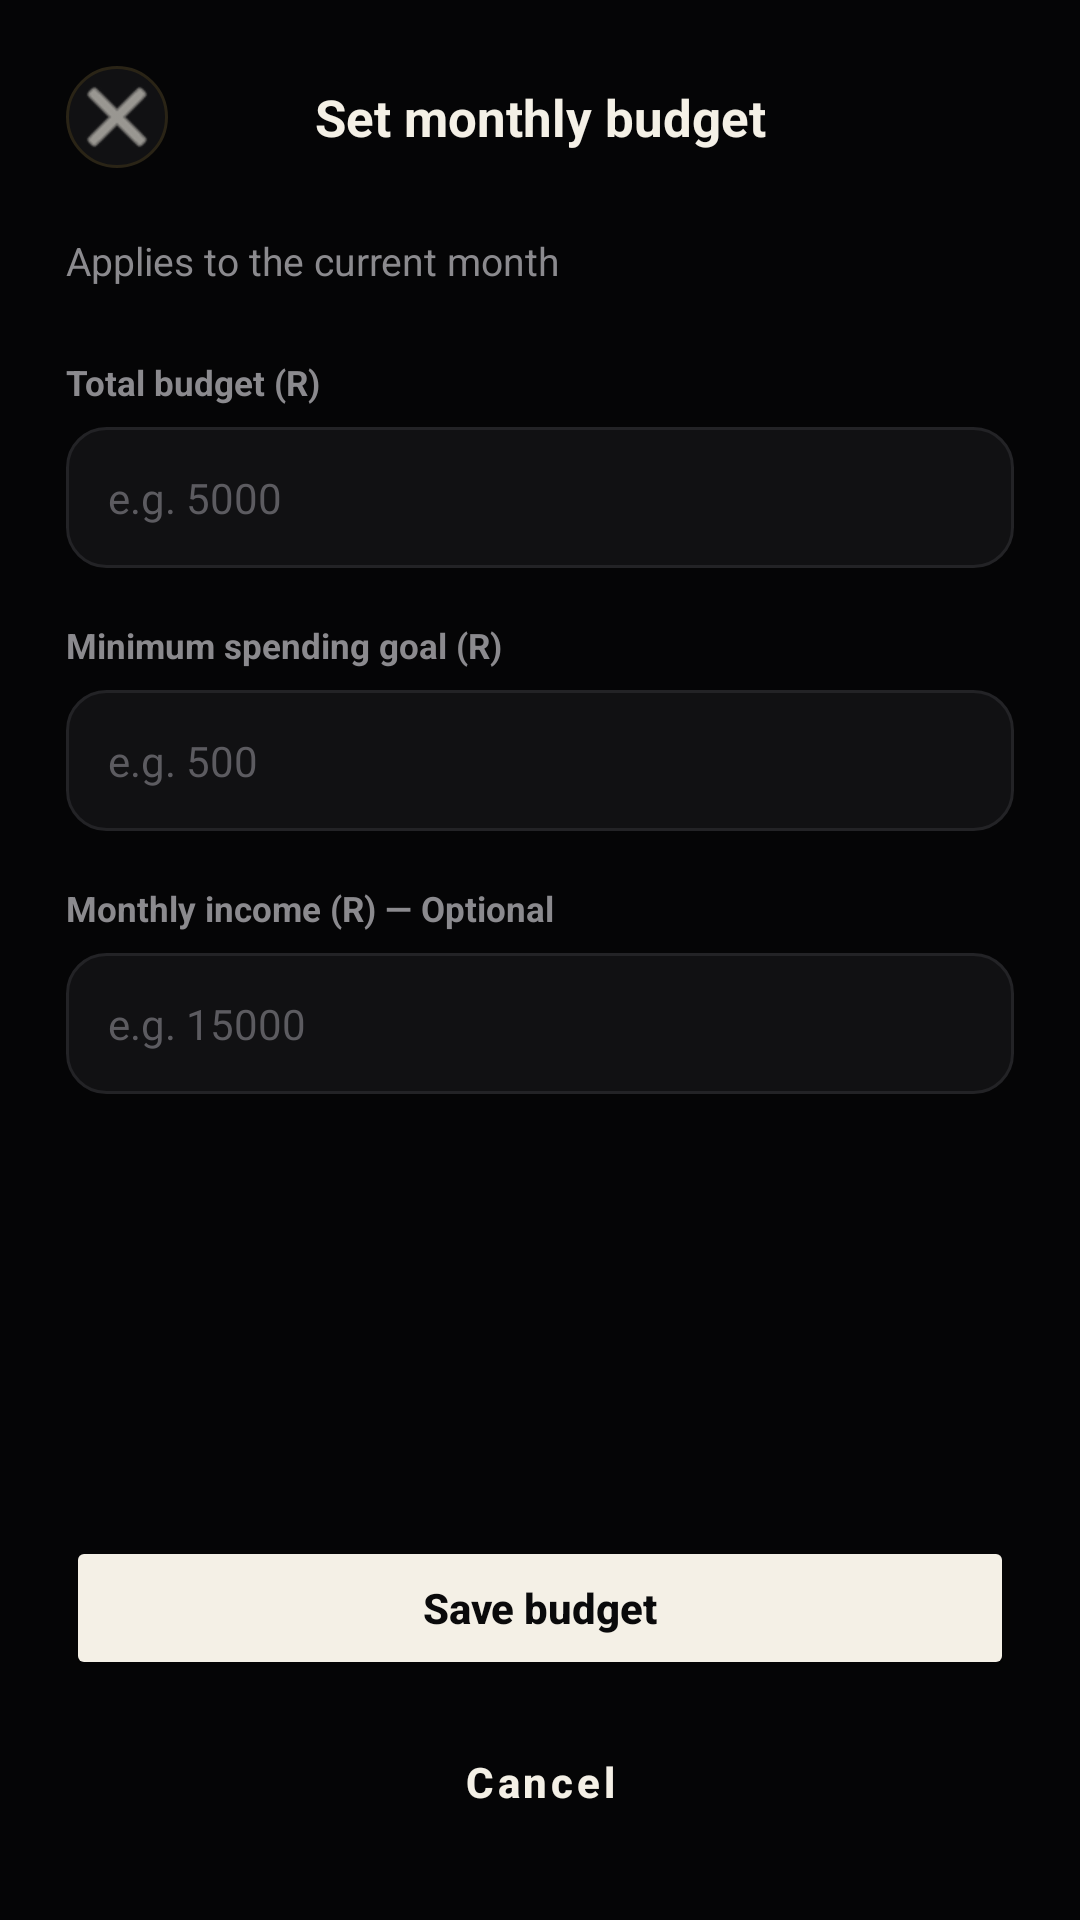

Icon click points for this 1080px×1920px phone screenshot, format point (x, y):
close clear cancel: point (117, 117)
